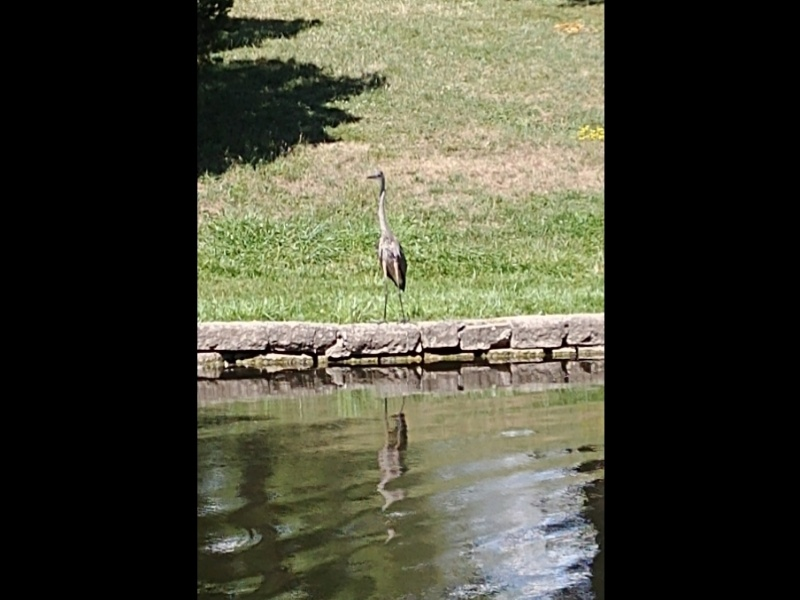heron: (362, 167, 412, 319)
